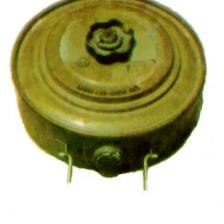TM-46: (10, 11, 206, 162)
